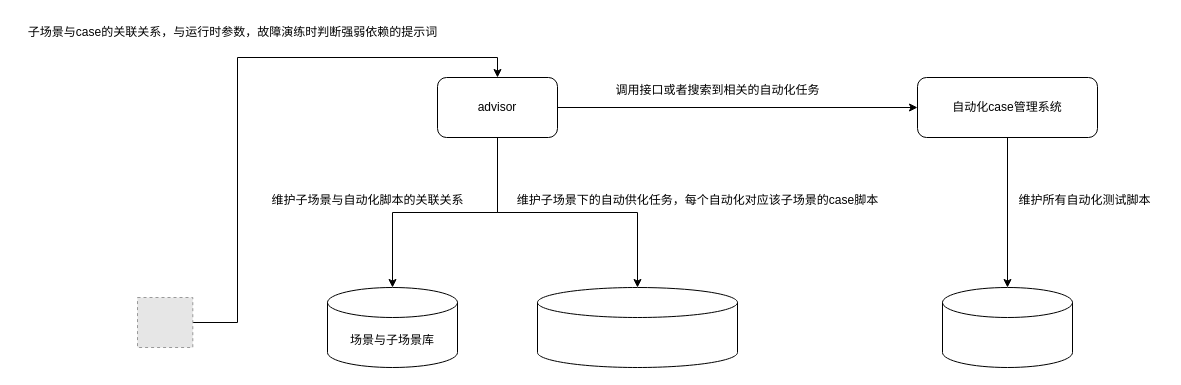
This 1181x385 diagram has some shape labels left out. Grey dashed boxes stand in for pictures. Each missing label, with the box of its shape:
测试case库: (942, 286, 1072, 368)
自动化功能梳理与故障演练任务: (536, 286, 738, 368)
